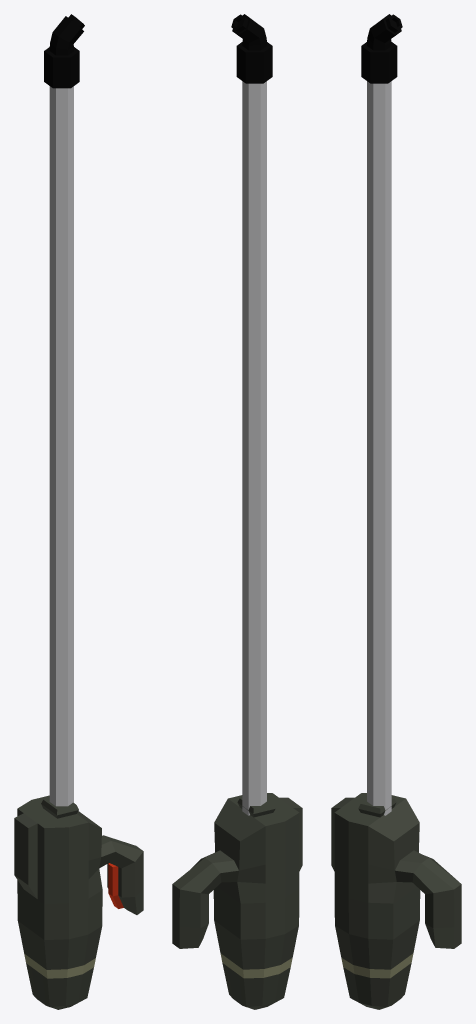
File: fumigator_2.glb
3 renders of one model, left to right at view 1: azimuth 30°, elevation 25°; view 2: azimuth 210°, elevation 25°; view 3: azimuth 330°, elevation 25°, orthographic.
Visible parts, largest first — view 1: fumigator_2; view 2: fumigator_2; view 3: fumigator_2.
Boxes of the visible parts, bbox=[...] form: fumigator_2: bbox=[14, 14, 143, 1009]; fumigator_2: bbox=[172, 14, 302, 1009]; fumigator_2: bbox=[331, 14, 461, 1009].
Size of the model in its own units: 0.3712 by 2.95 by 0.2034.
1 material, 1 textured.
